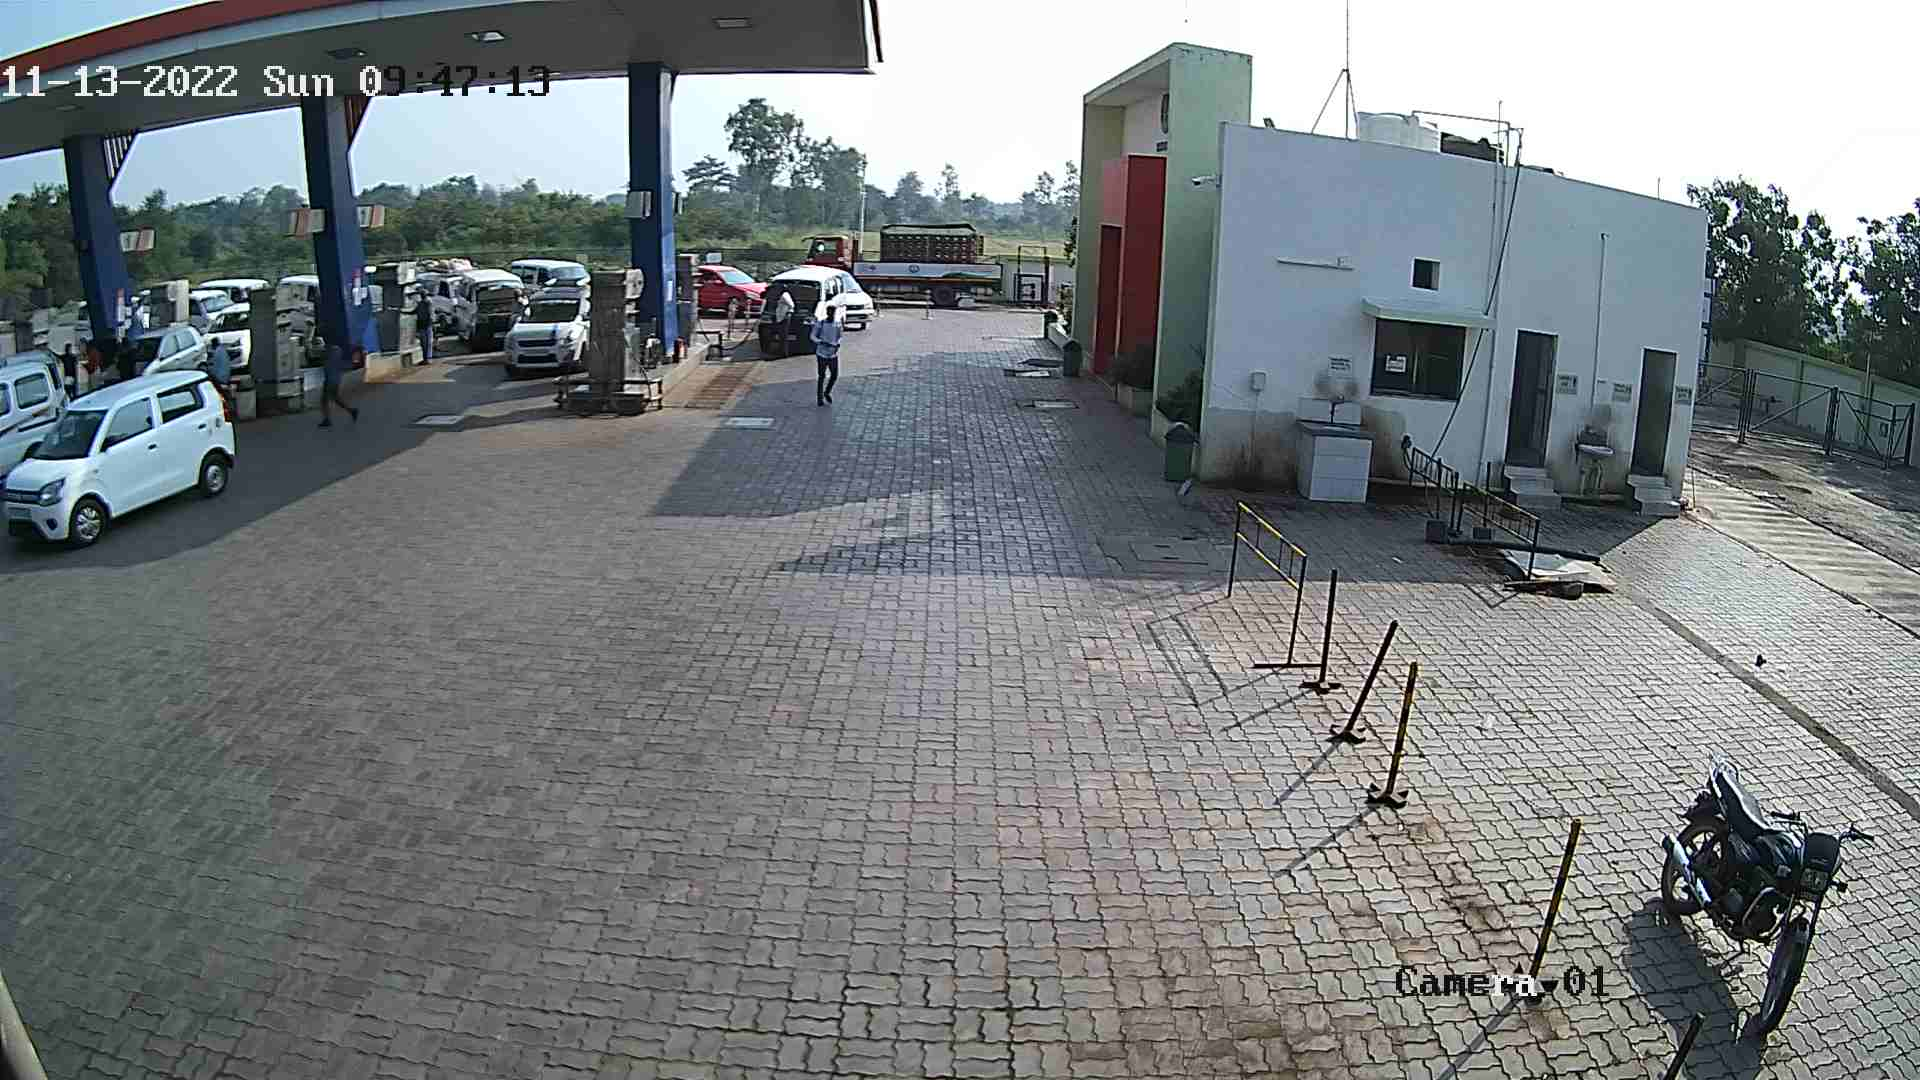Bike: (1623, 737, 1874, 1043)
Car: (0, 365, 244, 556), (1, 351, 73, 518), (746, 257, 847, 363), (502, 269, 595, 380), (74, 320, 212, 386), (440, 264, 535, 349), (411, 253, 473, 339), (194, 301, 260, 380), (276, 273, 328, 368), (694, 255, 771, 318), (508, 253, 589, 309), (824, 262, 881, 334), (199, 272, 270, 307), (179, 286, 229, 334)
HMV: (798, 218, 1013, 309)
